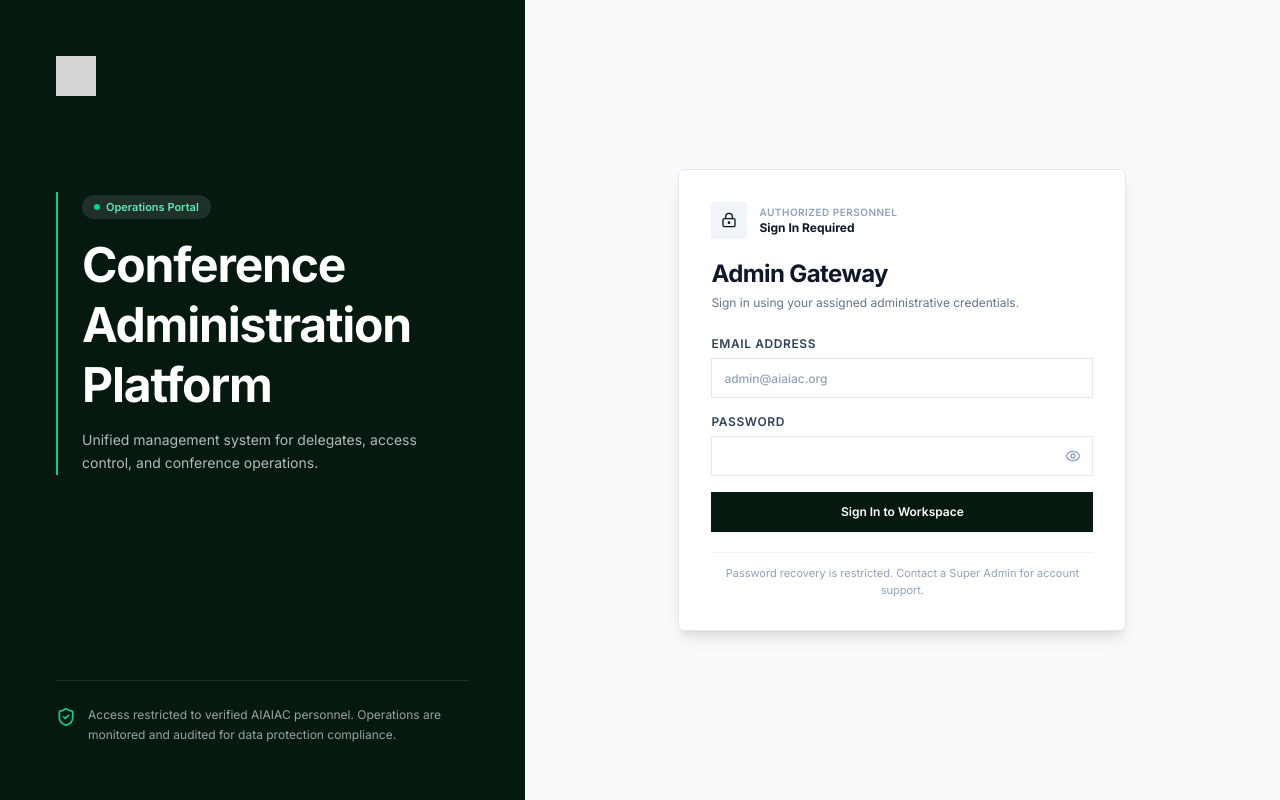
Test case: Admin authentication and layout › shows a rate-limit message and clears the password after failure
Expected: the heading "Admin Gateway" is shown, [711, 259, 888, 288]
Step 1. Type "admin@example.com" into the field labelled "Email Address" → (902, 378), box [711, 358, 1093, 398]
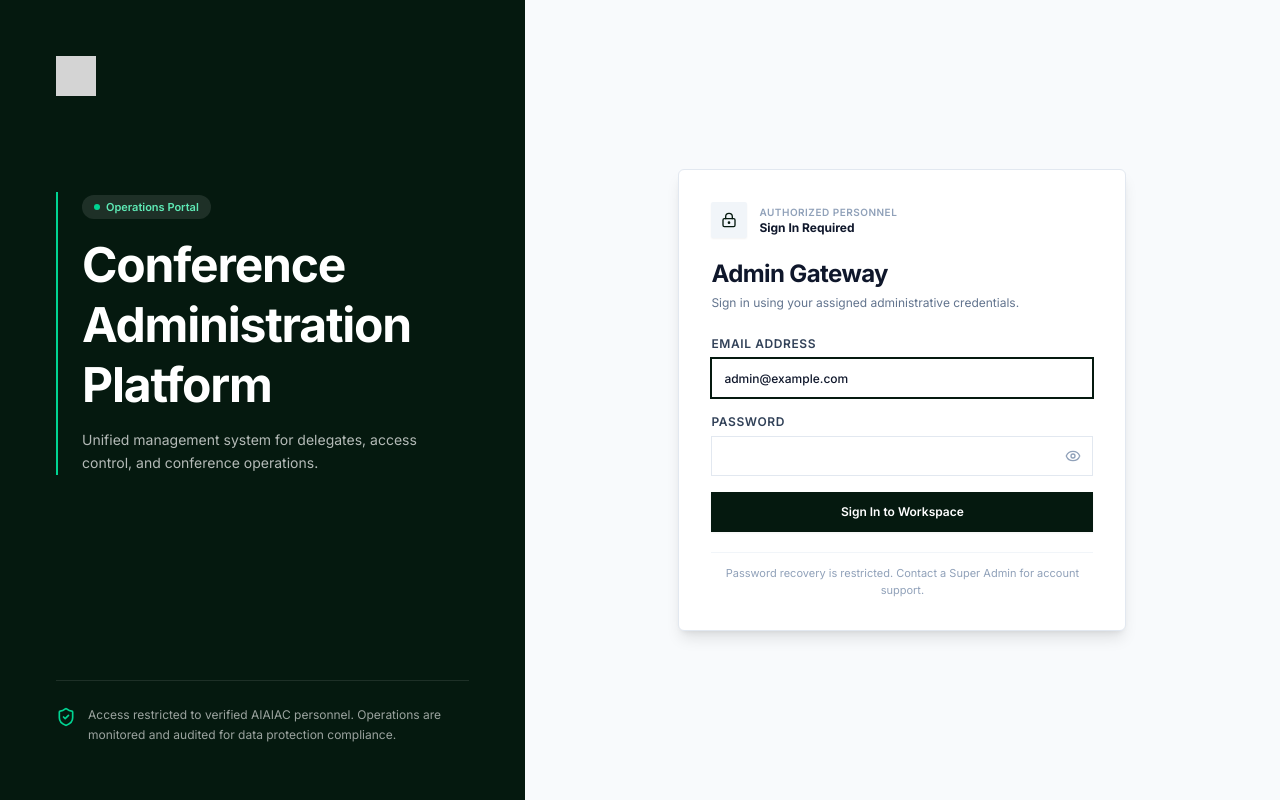
Step 2. Type "not-the-password" into the password field labelled "Password" → (902, 456), box [711, 436, 1093, 476]
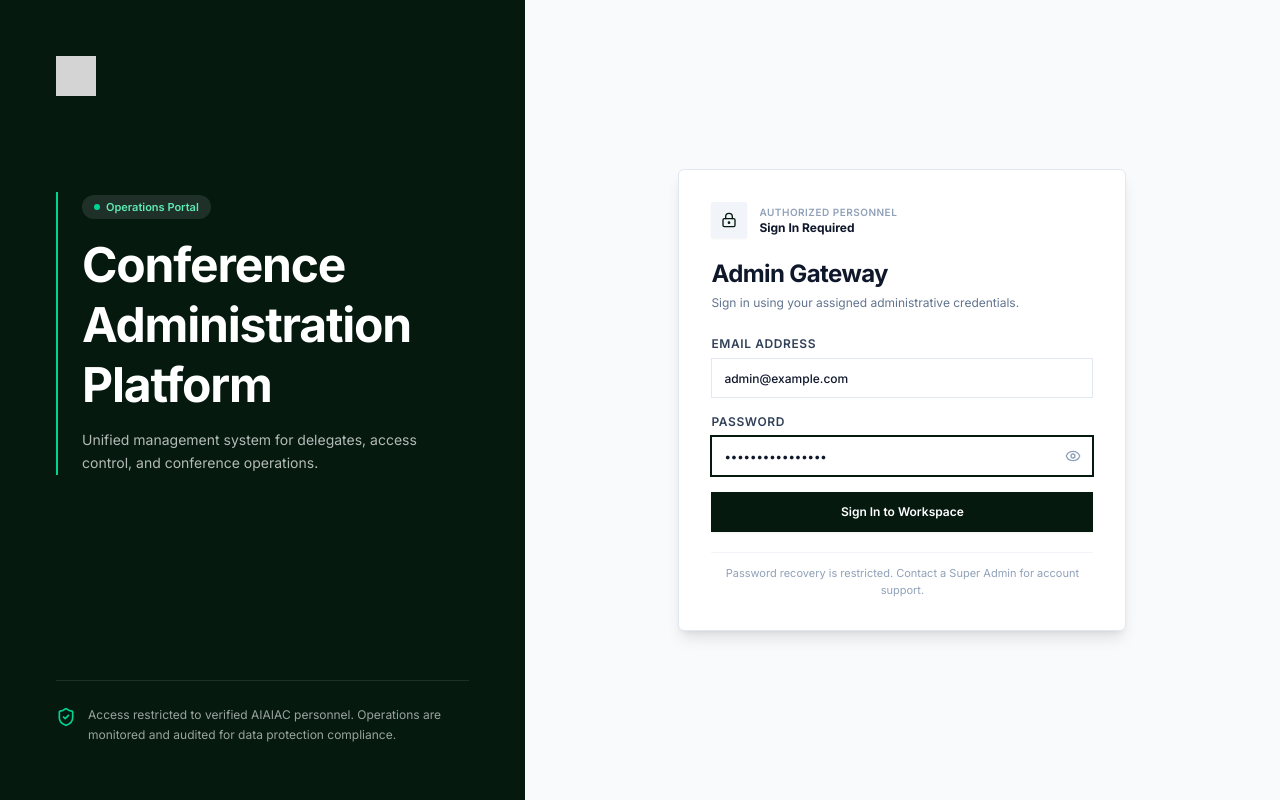
Step 3. Click the button "Sign In to Workspace" → click(902, 512), box [711, 492, 1093, 532]
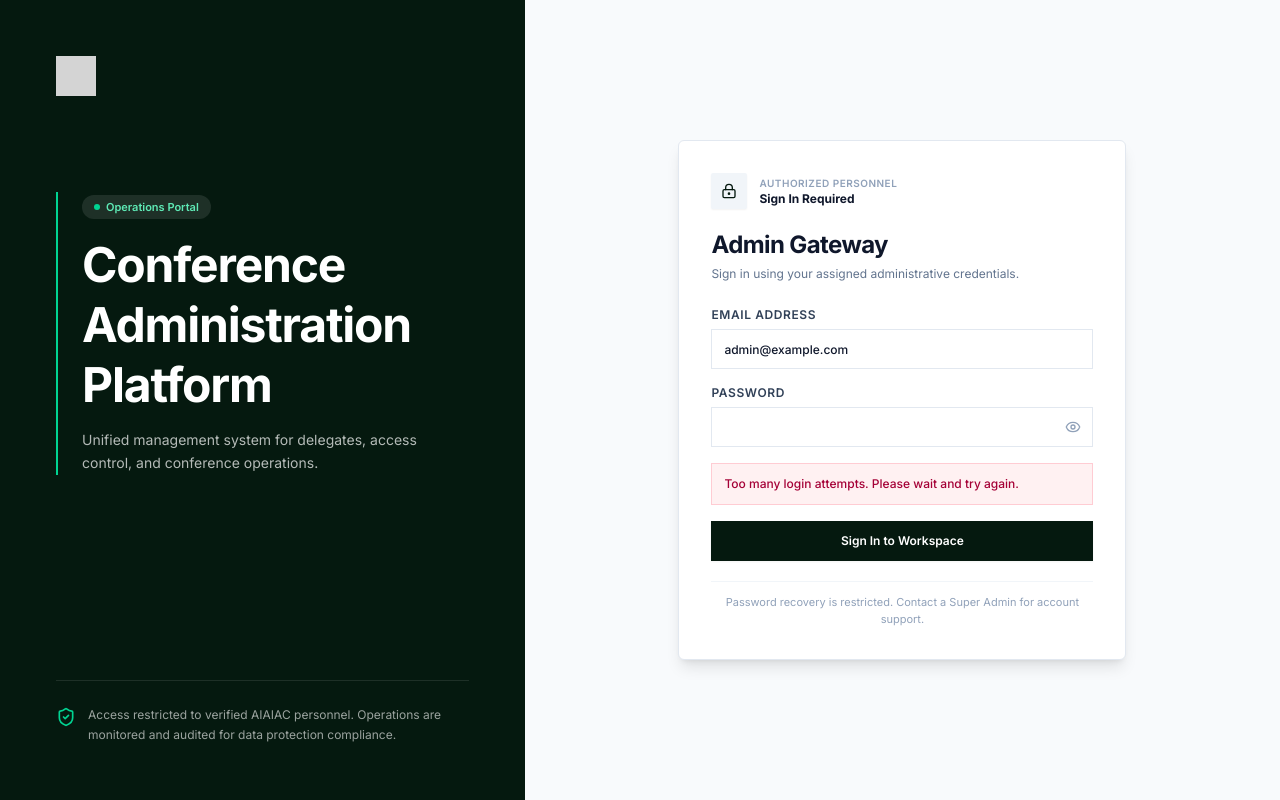
Now the message reads "Too many login attempts. Please wait and try again.", box [724, 476, 1019, 491]
Now the password field labelled "Password" is empty, box [711, 407, 1093, 447]
